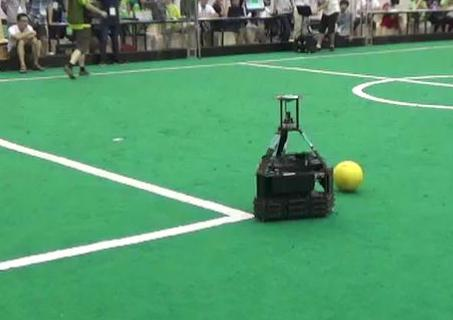robot: (246, 88, 343, 224)
